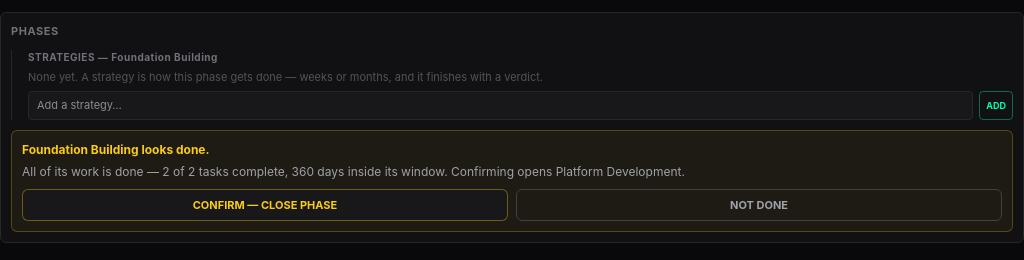
Test: PhasePanel › NOT DONE dismisses the proposal and says when it will return
The width and height of the screenshot is (1024, 260).
What coordinates should you click on to do the following:
click the button "NOT DONE"
I would click on:
 (759, 205)
Its box is [516,188,1002,221].
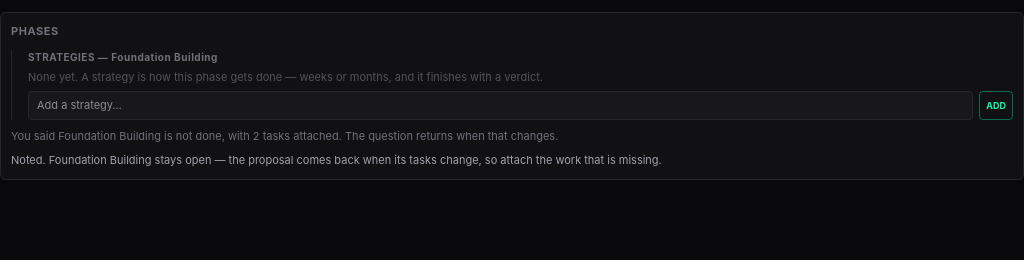
Check: the text with test id "phase-advance-notice" shows "Foundation Building stays open — the proposal comes back when its tasks change", box [11,153,662,167]
Check: the element with test id "phase-advance-proposal" is gone
Check: the text with test id "phase-advance-dismissed" shows "You said Foundation Building is not done, with 2 tasks attached.", box [11,128,558,142]
